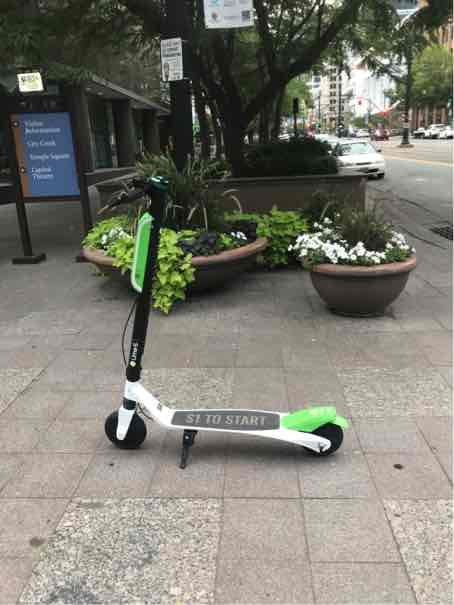scooter: (82, 154, 349, 477)
